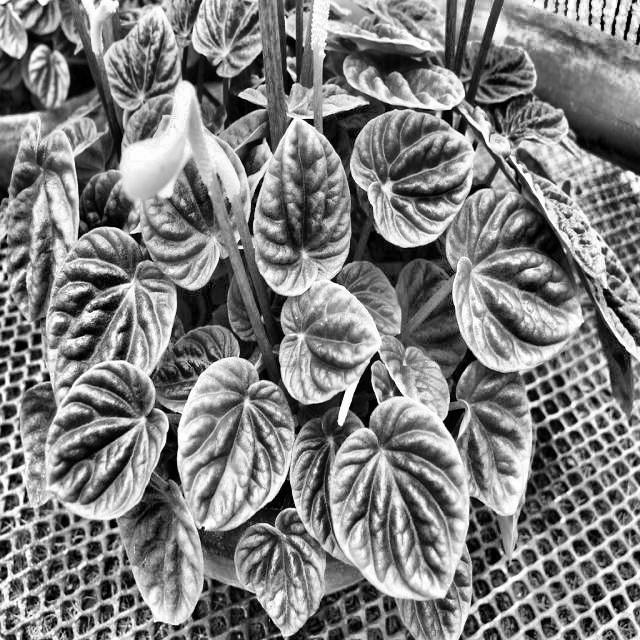plants: (28, 48, 520, 588)
